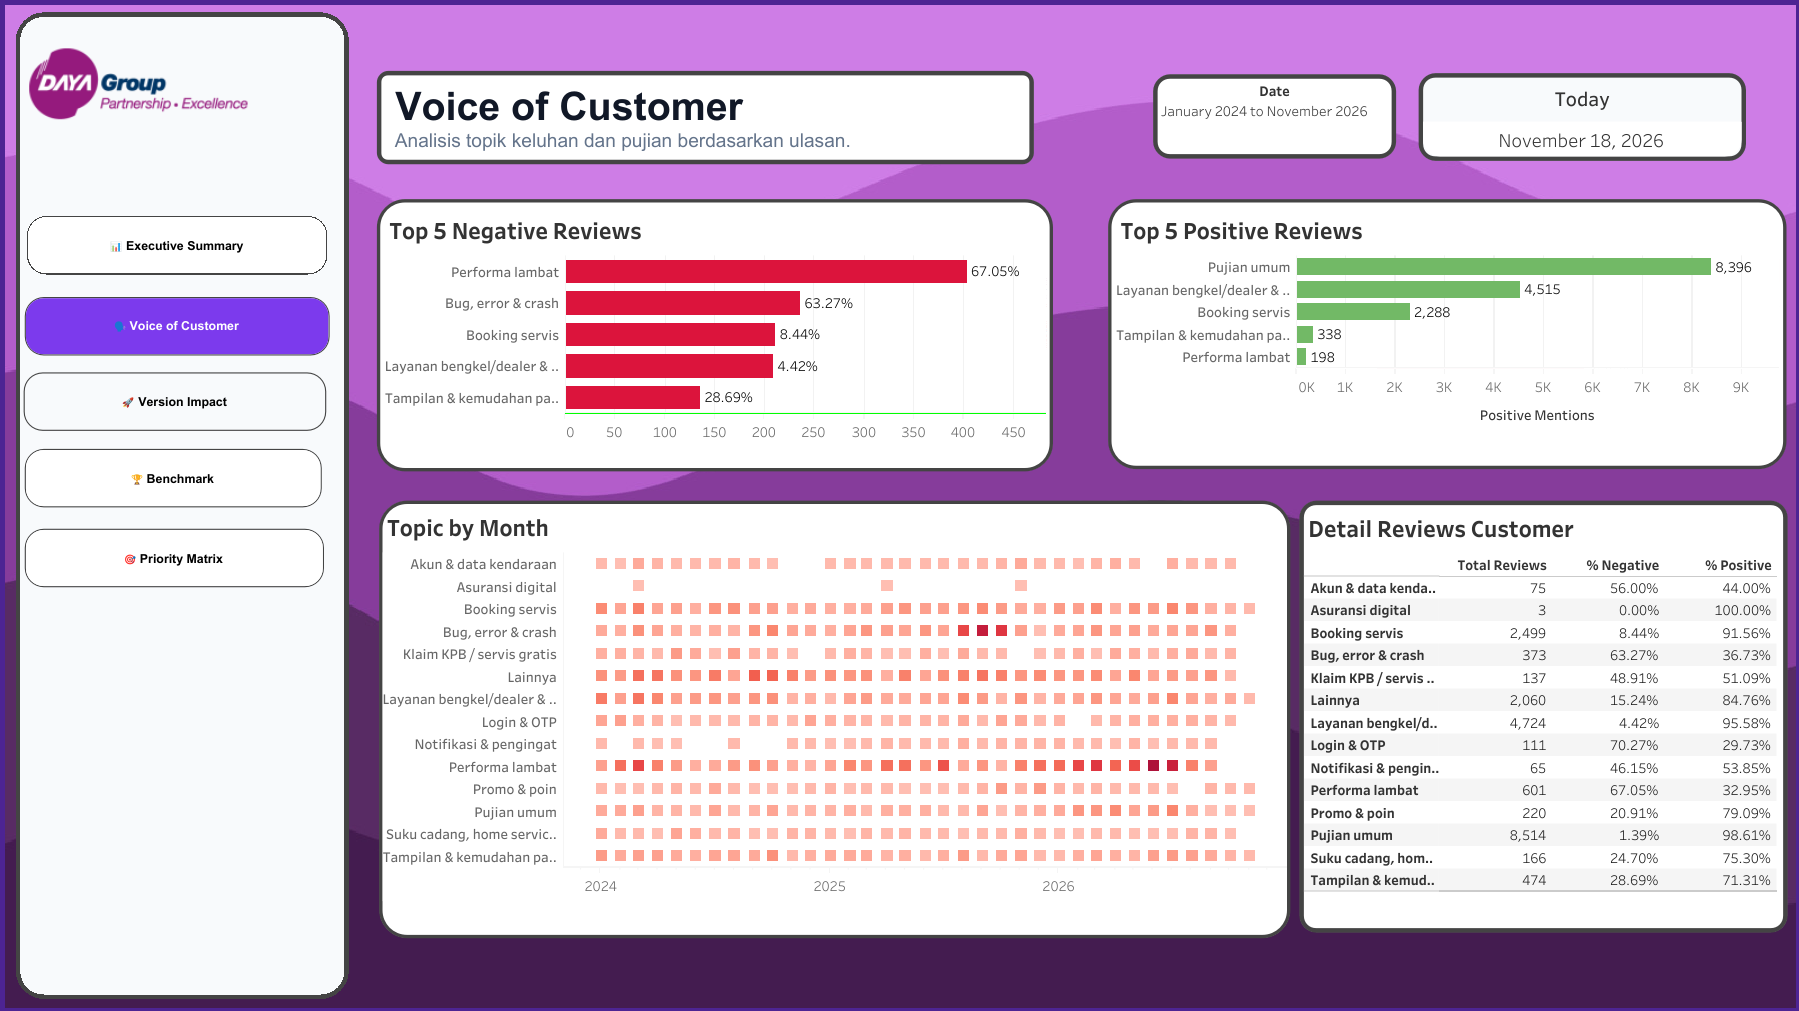

The page's visual inventory and layout, read from the dashboard file:
{"tool":"tableau","page":{"name":"Voice of Customer","canvas":[1600,900],"ordinal":4},"visuals":[{"type":"blank","box":[18.4,15.2,288,868.4]},{"type":"image","param":"C:/Users/hp/Downloads/LOGO-DAYA-GROUP-WEBSITE.png","box":[25.6,42.8,272,63]},{"type":"text","box":[335,63,584,81]},{"type":"filter","title":"Heatmap Tren Topik","param":"[federated.1suynq51iasmjy1akr6nl03c6nyl].[tmn:review_month:qk]","box":[1029,67,206,73]},{"type":"worksheet","title":"Today Card","mark":"Automatic","box":[1265,69,283,70]},{"type":"worksheet","title":"Sheet 16","mark":"Automatic","rows":["topic_label"],"cols":["n_negative_mentions"],"box":[338,180,595,236]},{"type":"worksheet","title":"Sheet 17","mark":"Automatic","rows":["topic_label"],"cols":["Calculation_2057253256364034"],"box":[988,180,588,234]},{"type":"dashboard-object","box":[24,192.4,267.2,51.7]},{"type":"dashboard-object","box":[22.4,264.4,270.4,51.7]},{"type":"dashboard-object","box":[20.8,330.8,268.8,51.7]},{"type":"dashboard-object","box":[22.4,399.4,264,51.7]},{"type":"dashboard-object","box":[22.4,470.2,265.6,51.7]},{"type":"worksheet","title":"Heatmap Tren Topik","mark":"Automatic","rows":["topic_label"],"cols":["review_month"],"box":[340,473,1233,326]}]}

Visuals, with their boxes in screenshot pixels (x1, y1, x2, y2), scaled from the page's 1600x900 canvas onto the 1799x1011 screenshot:
blank: <box>21,17,345,993</box>
image: <box>29,48,335,119</box>
text: <box>377,71,1033,162</box>
"Heatmap Tren Topik" filter: <box>1157,75,1389,157</box>
"Today Card" worksheet: <box>1422,78,1741,156</box>
"Sheet 16" worksheet: <box>380,202,1049,467</box>
"Sheet 17" worksheet: <box>1111,202,1772,465</box>
dashboard-object: <box>27,216,327,274</box>
dashboard-object: <box>25,297,329,355</box>
dashboard-object: <box>23,372,326,430</box>
dashboard-object: <box>25,449,322,507</box>
dashboard-object: <box>25,528,324,586</box>
"Heatmap Tren Topik" worksheet: <box>382,531,1769,898</box>
